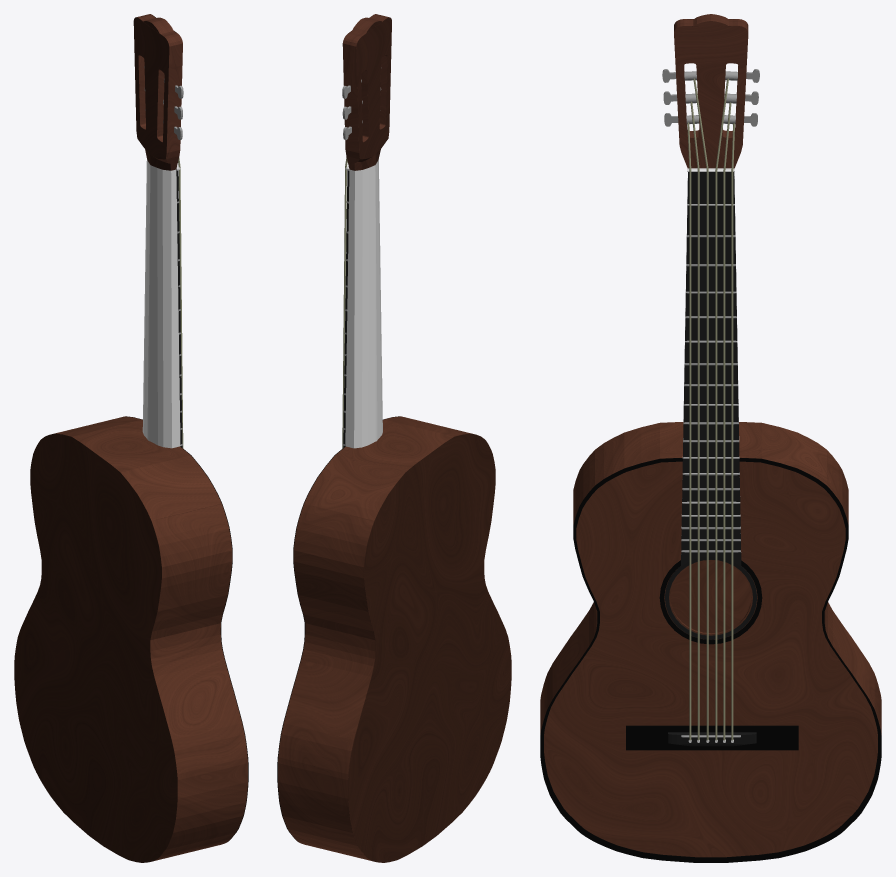
Rendered from Violão.fbx.
3 views of the same model, side by side, from view 1: azimuth 30°, elevation 25°; view 2: azimuth 150°, elevation 25°; view 3: azimuth 270°, elevation 25° (orthographic). The views are drawn at different scales.
Parts seen in each view (by area): view 1: Cube, Cube.004, Cube.005, Cube.013, Cylinder.003; view 2: Cube, Cube.004, Cube.005, Cube.013, Cylinder.008, Cube.002; view 3: Cube, Cube.013, Cube.005, Cube.002, Cube.003, Cylinder.005, Cylinder.006, Cylinder.004, Cylinder.007, Cylinder.003, Cylinder.008, Cube.012 (+2 smaller).
Part boxes in pixels (bbox=[...]): Cube: bbox=[14, 416, 247, 862]; Cube.004: bbox=[142, 159, 180, 448]; Cube.005: bbox=[133, 14, 182, 170]; Cube.013: bbox=[176, 170, 182, 447]; Cylinder.003: bbox=[178, 157, 183, 448]; Cube: bbox=[278, 416, 511, 862]; Cube.004: bbox=[345, 158, 382, 448]; Cube.005: bbox=[342, 14, 391, 170]; Cube.013: bbox=[343, 170, 349, 447]; Cylinder.008: bbox=[342, 157, 347, 448]; Cube.002: bbox=[277, 416, 399, 841]; Cube: bbox=[540, 422, 881, 857]; Cube.013: bbox=[681, 172, 741, 567]; Cube.005: bbox=[674, 14, 748, 168]; Cube.002: bbox=[540, 458, 881, 862]; Cube.003: bbox=[626, 725, 798, 750]; Cylinder.005: bbox=[693, 78, 708, 740]; Cylinder.006: bbox=[715, 78, 728, 740]; Cylinder.004: bbox=[690, 101, 699, 740]; Cylinder.007: bbox=[723, 102, 731, 740]; Cylinder.003: bbox=[687, 122, 691, 740]; Cylinder.008: bbox=[731, 123, 734, 740]; Cube.012: bbox=[659, 560, 762, 644].
Bounding box in the file's own units: 36.55 × 351 × 129.
9 materials, 2 textured.
